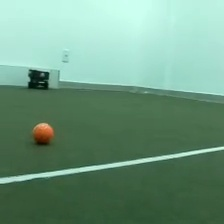ball: (30, 120, 55, 145)
goal: (1, 63, 62, 92)
robot: (26, 66, 50, 91)
